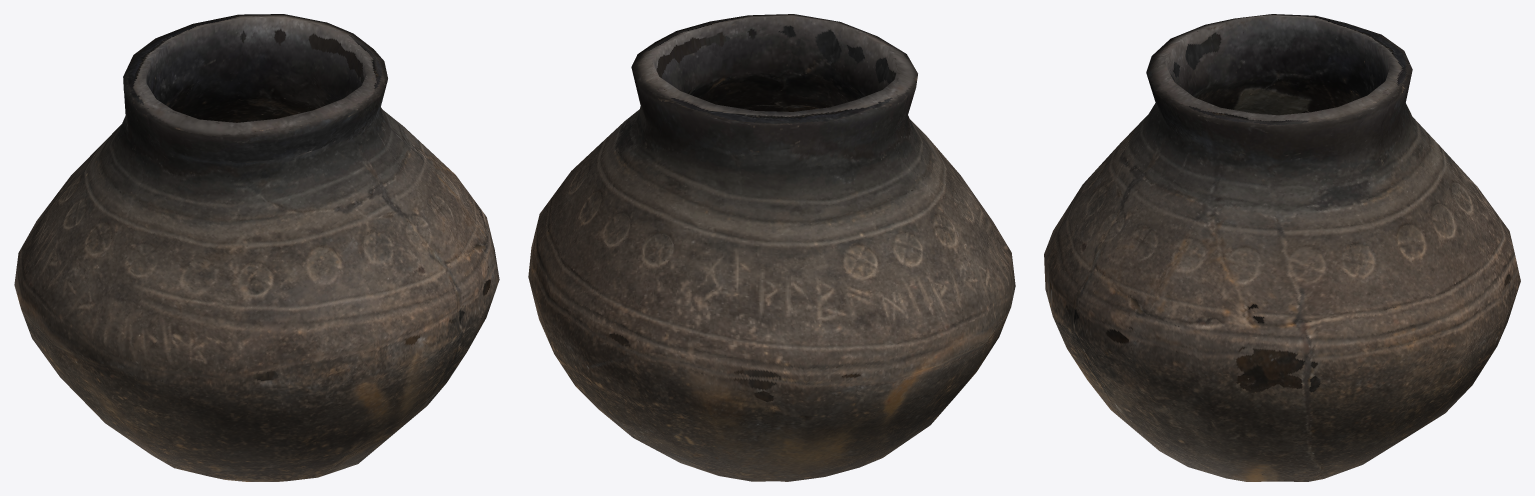
The model's file is cremation_urn.glb.
3 views of the same model, side by side, from view 1: azimuth 30°, elevation 25°; view 2: azimuth 150°, elevation 25°; view 3: azimuth 270°, elevation 25° (orthographic). The views are drawn at different scales.
Visible parts, largest first — view 1: urn; view 2: urn; view 3: urn.
Boxes of the visible parts, box(x1,y1,x2,y2) form: urn: box(14, 14, 499, 481); urn: box(528, 14, 1015, 481); urn: box(1044, 14, 1520, 481).
Bounding box in the file's own units: 0.1185 × 0.1047 × 0.1175.
Materials: 1 (1 with a texture image).
